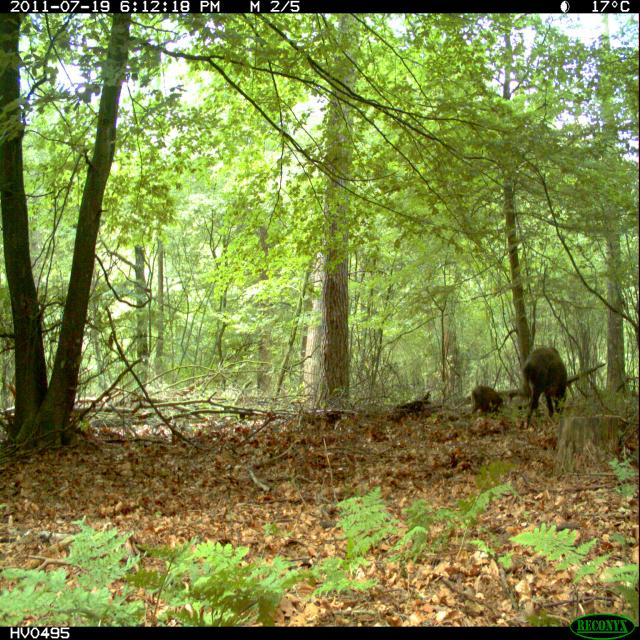boar: (508, 336, 574, 421), (469, 376, 510, 416)
